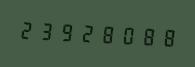eight: (137, 22, 156, 50), (157, 23, 176, 51), (97, 20, 116, 47)
nine: (57, 17, 76, 45)
three: (37, 16, 56, 44)
two: (17, 15, 36, 43), (77, 18, 96, 46)
zero: (117, 21, 136, 49)
